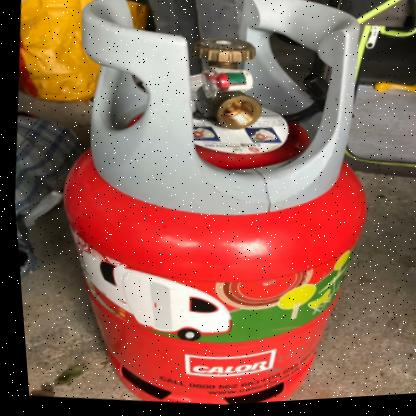gas-tank: (14, 0, 413, 414)
